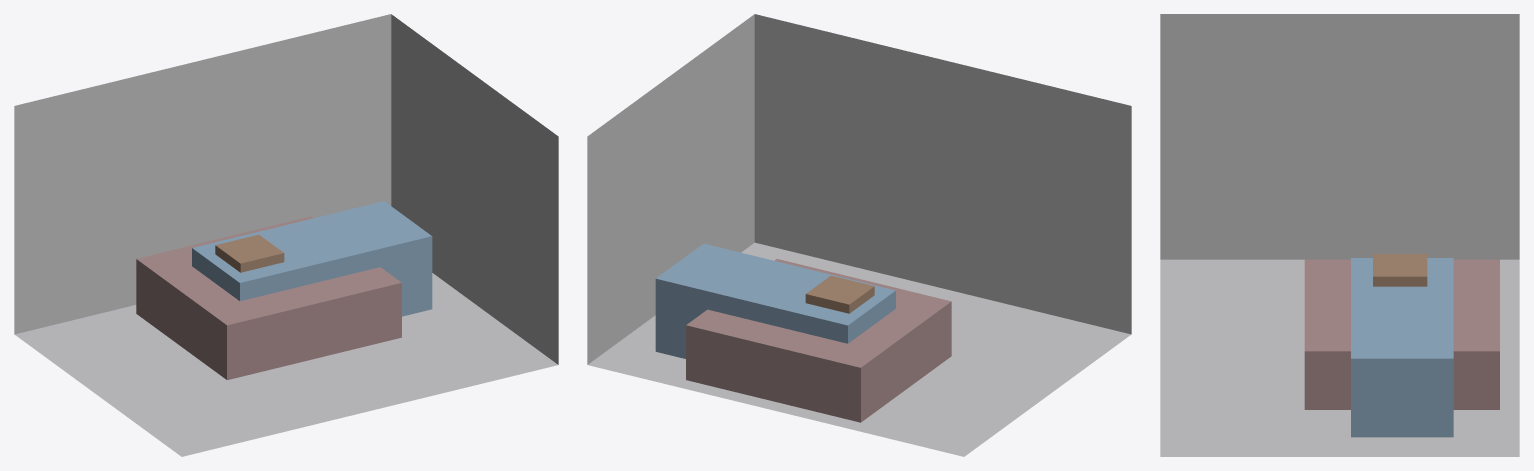
Rendered from optimised_layout.glb.
3 views of the same model, side by side, from view 1: azimuth 30°, elevation 25°; view 2: azimuth 150°, elevation 25°; view 3: azimuth 270°, elevation 25° (orthographic). The views are drawn at different scales.
Parts seen in each view (by area): view 1: room, bed, couch, chair; view 2: room, bed, couch, chair; view 3: room, couch, bed, chair.
Part boxes in pixels (x1,y1,x2,y2): room: [14, 14, 558, 456]; bed: [136, 216, 401, 380]; couch: [192, 201, 432, 316]; chair: [215, 234, 284, 272]; room: [587, 14, 1131, 456]; bed: [686, 259, 951, 422]; couch: [655, 243, 895, 358]; chair: [805, 275, 874, 313]; room: [1160, 14, 1519, 456]; couch: [1351, 258, 1453, 437]; bed: [1304, 259, 1499, 409]; chair: [1373, 254, 1427, 286].
Bounding box in the file's own units: 4.31 × 2.5 × 3.32.
